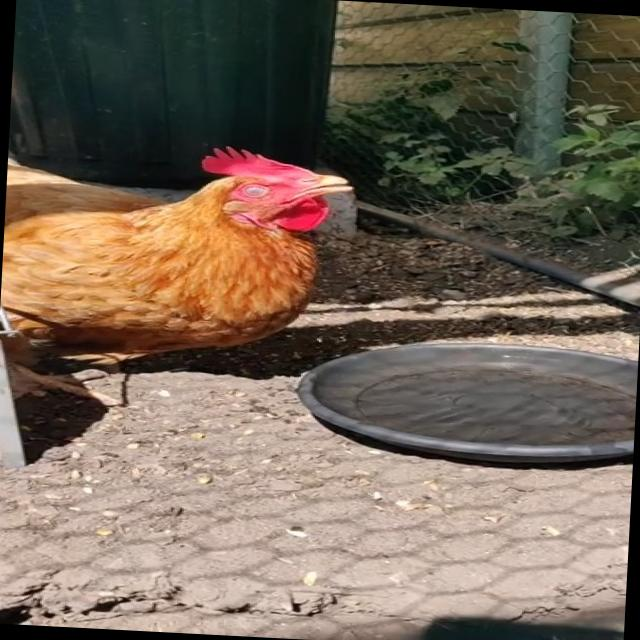drinking: (0, 141, 502, 389)
